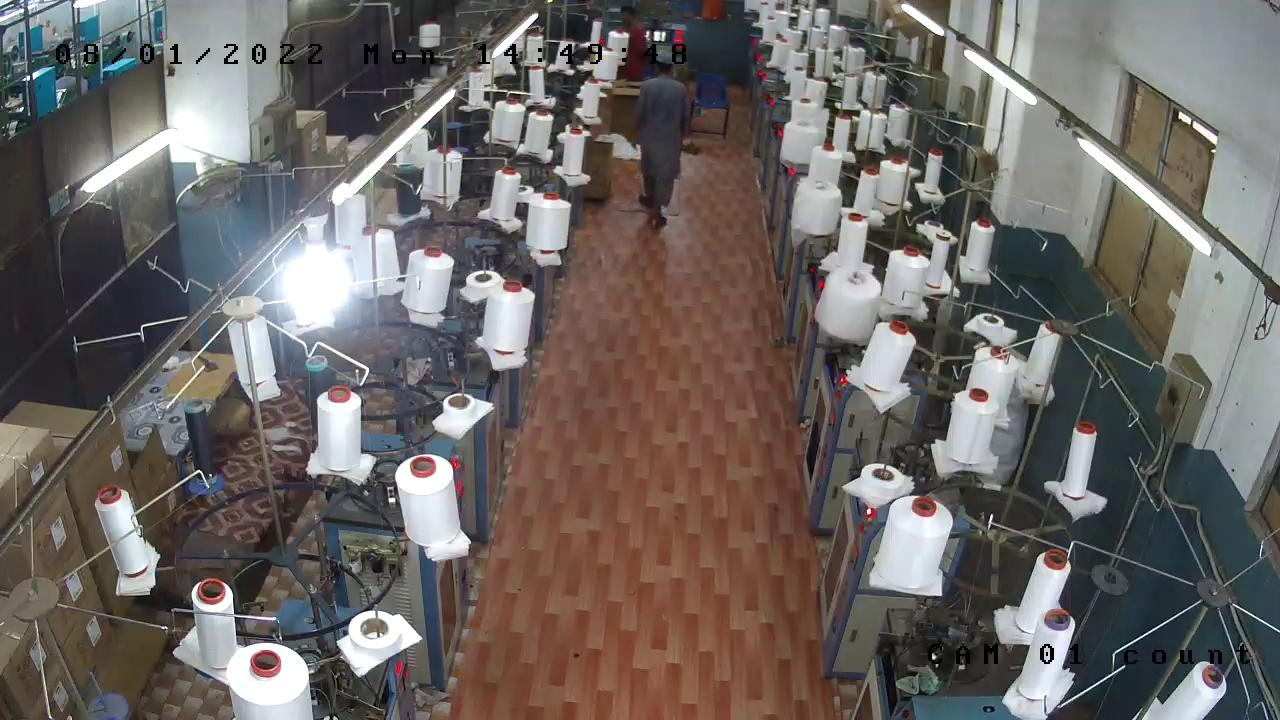person: (632, 52, 686, 223)
